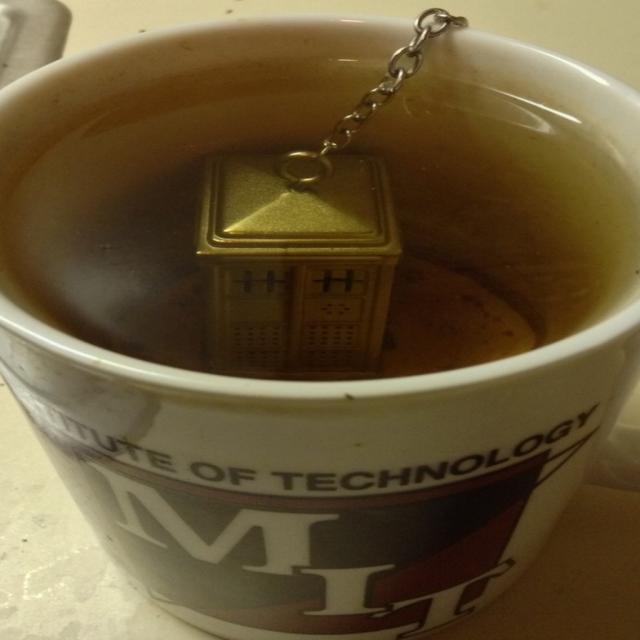Tea: (0, 50, 639, 382)
